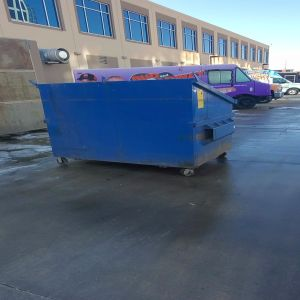Dumpster: (39, 84, 238, 179)
